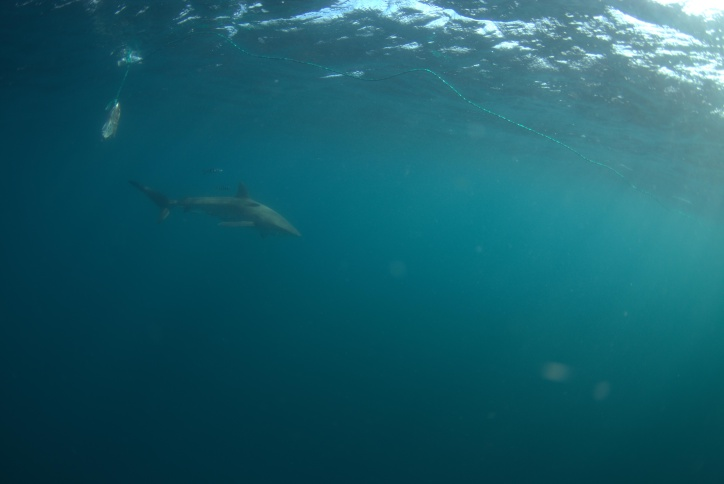Sedoso: (111, 170, 313, 252)
